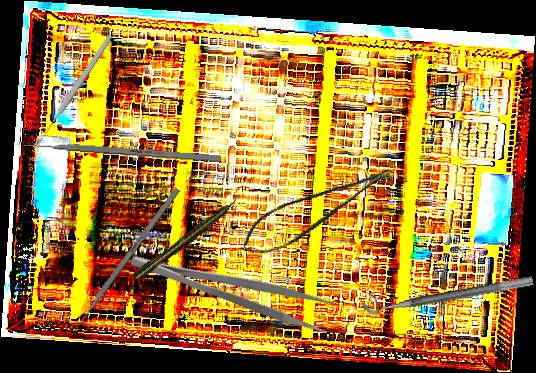Dressing Forceps: (128, 233, 338, 338)
Fixation Ring: (359, 261, 534, 317)
Handpiece: (131, 194, 243, 283)
Micro Scissor: (234, 163, 402, 263)
Pusher: (67, 186, 181, 339), (10, 139, 222, 163)
Surgical Spoon: (33, 33, 115, 147)
